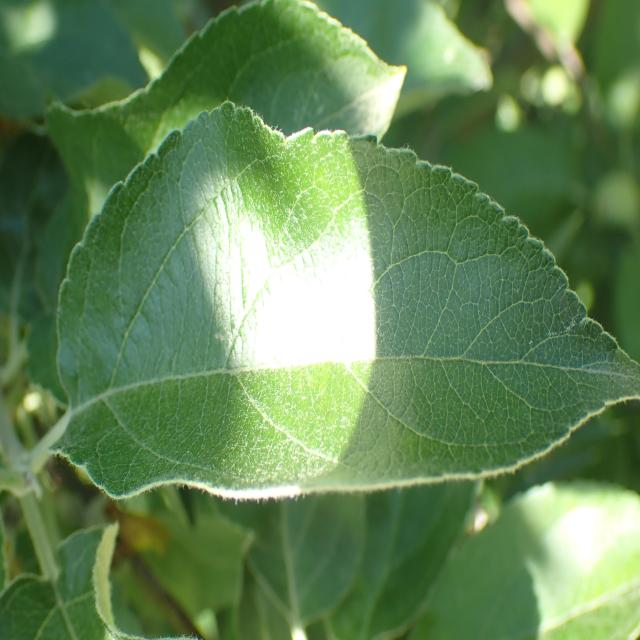healthy: (48, 101, 640, 502), (44, 0, 408, 160), (408, 478, 640, 640), (0, 522, 147, 640)
